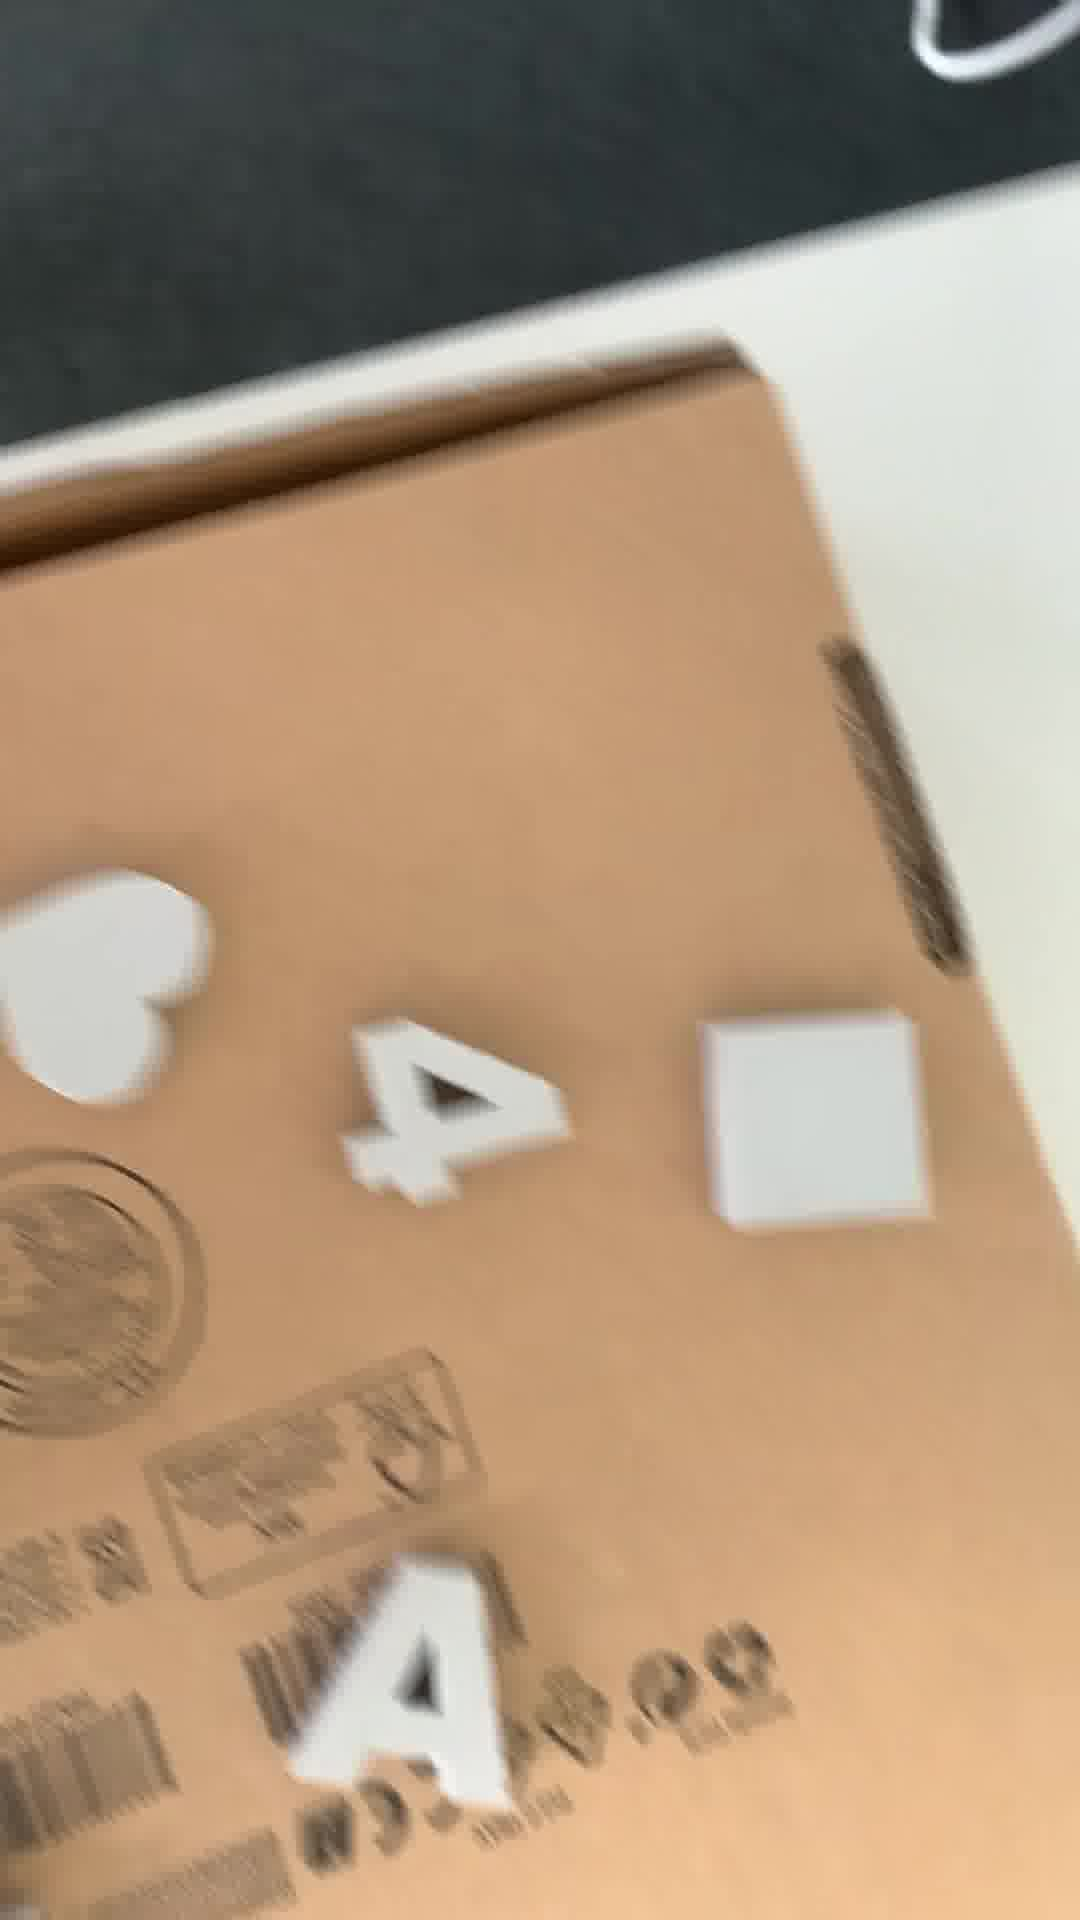Gray A-letter: (287, 1552, 553, 1815)
Gray four: (330, 993, 582, 1238)
Gray heart: (1, 872, 235, 1106)
Gray square: (696, 1000, 945, 1261)
